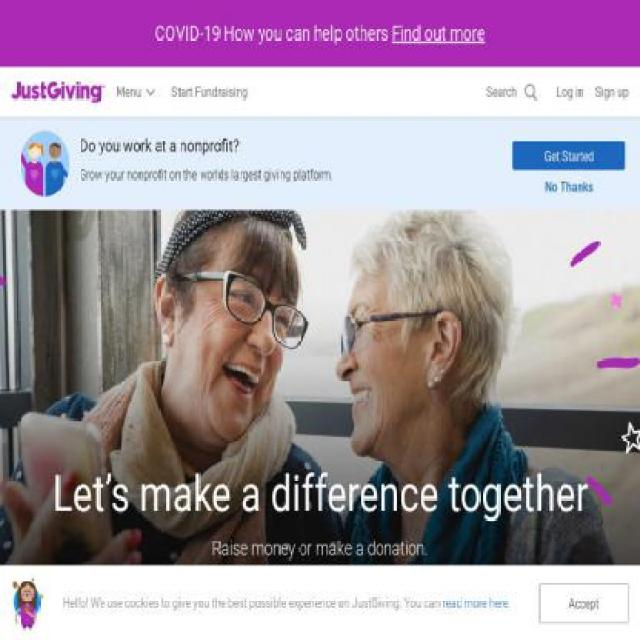button: (231, 581, 409, 628), (8, 68, 109, 117), (167, 68, 251, 117), (538, 583, 630, 623), (482, 68, 541, 117), (112, 68, 160, 117), (518, 146, 619, 166), (591, 68, 632, 117), (552, 68, 588, 117)
